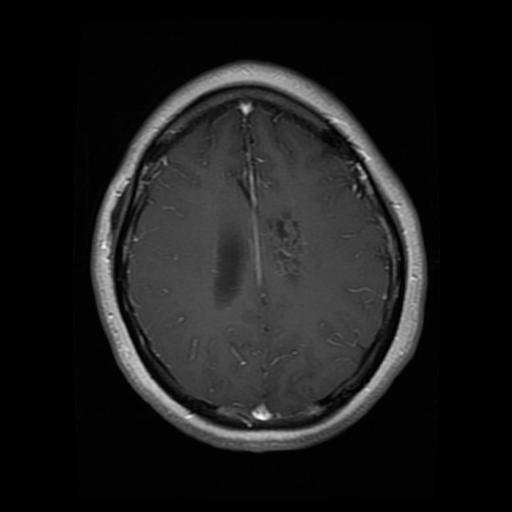Gliomia_tumour: (265, 208, 304, 280)
